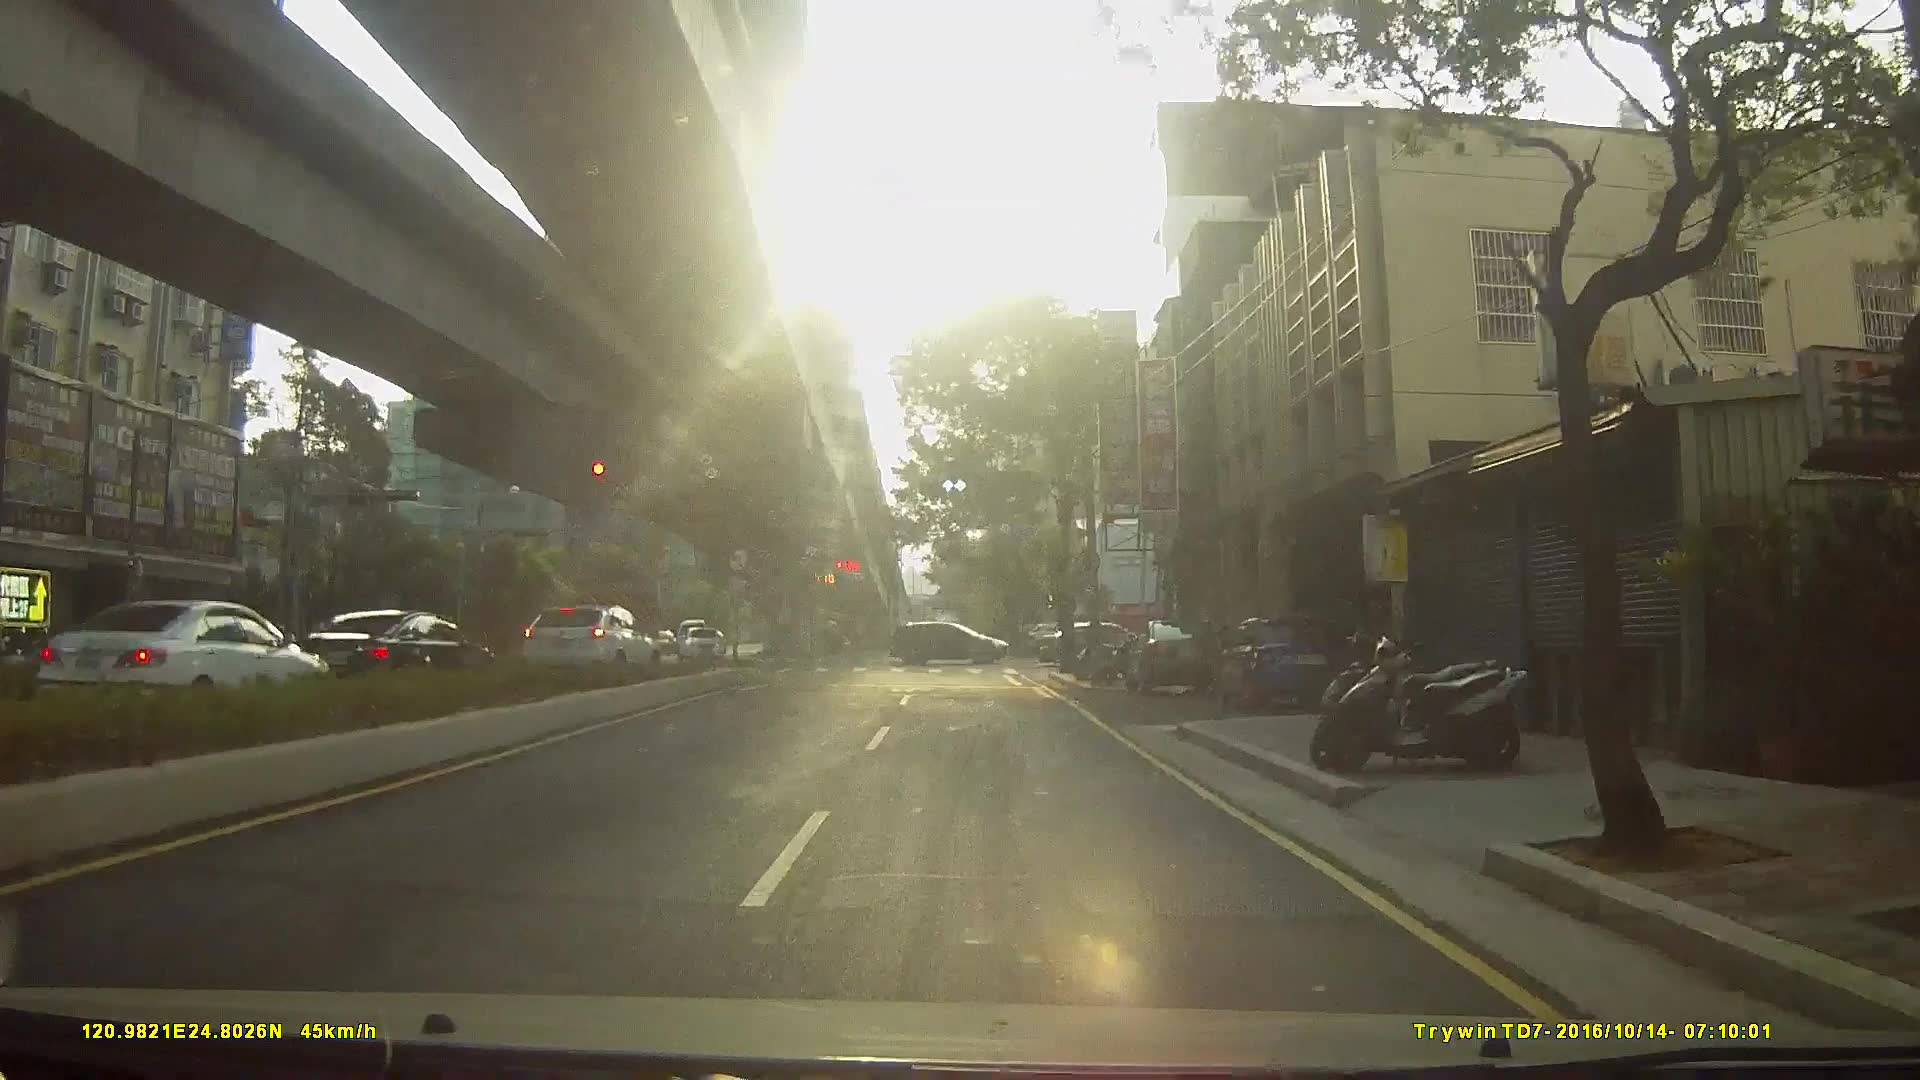vehicle: (25, 597, 328, 711), (289, 604, 496, 692), (1220, 609, 1362, 712), (513, 599, 657, 673), (1124, 611, 1226, 688), (891, 617, 1013, 662), (679, 622, 724, 659), (640, 626, 678, 655)
